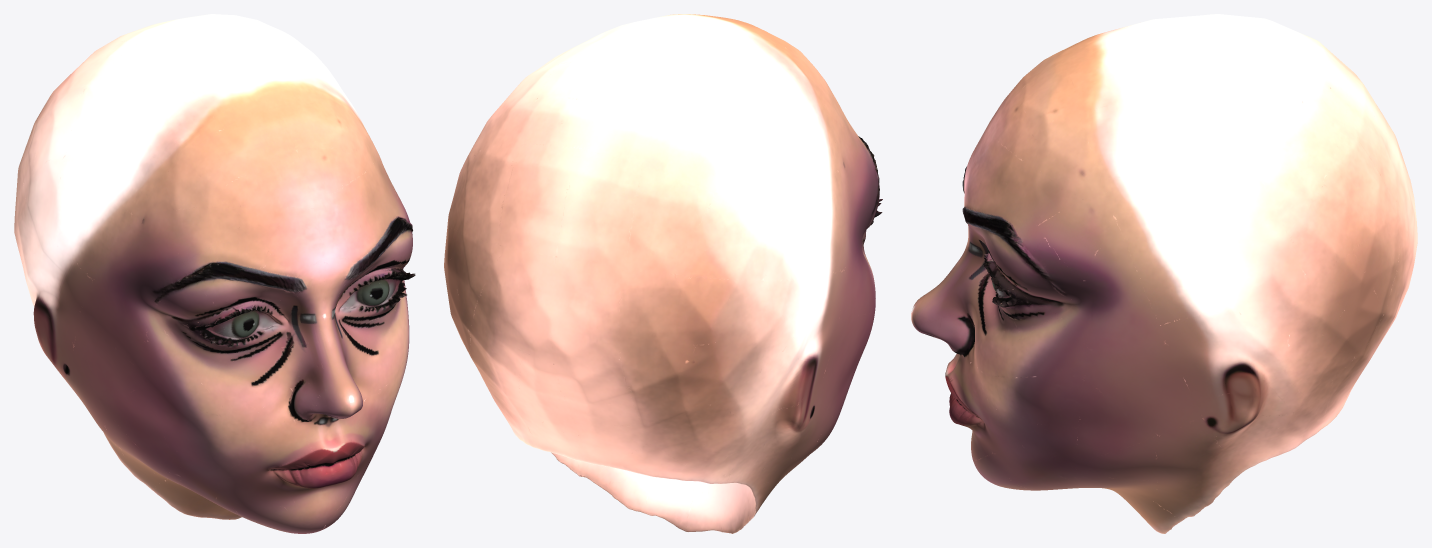
File: Meshy_AI_Line_Drawn_Portrait_0516192342_texture.fbx
3 views of the same model, side by side, from view 1: azimuth 30°, elevation 25°; view 2: azimuth 150°, elevation 25°; view 3: azimuth 270°, elevation 25° (orthographic). The views are drawn at different scales.
Visible parts, largest first — view 1: Mesh_0; view 2: Mesh_0; view 3: Mesh_0.
Boxes of the visible parts, left/top/right/bottom form: Mesh_0: left=14, top=14, right=415, bottom=533; Mesh_0: left=444, top=14, right=882, bottom=533; Mesh_0: left=911, top=14, right=1417, bottom=533.
Bounding box in the file's own units: 133 × 190 × 177.
Materials: 1 (1 with a texture image).
